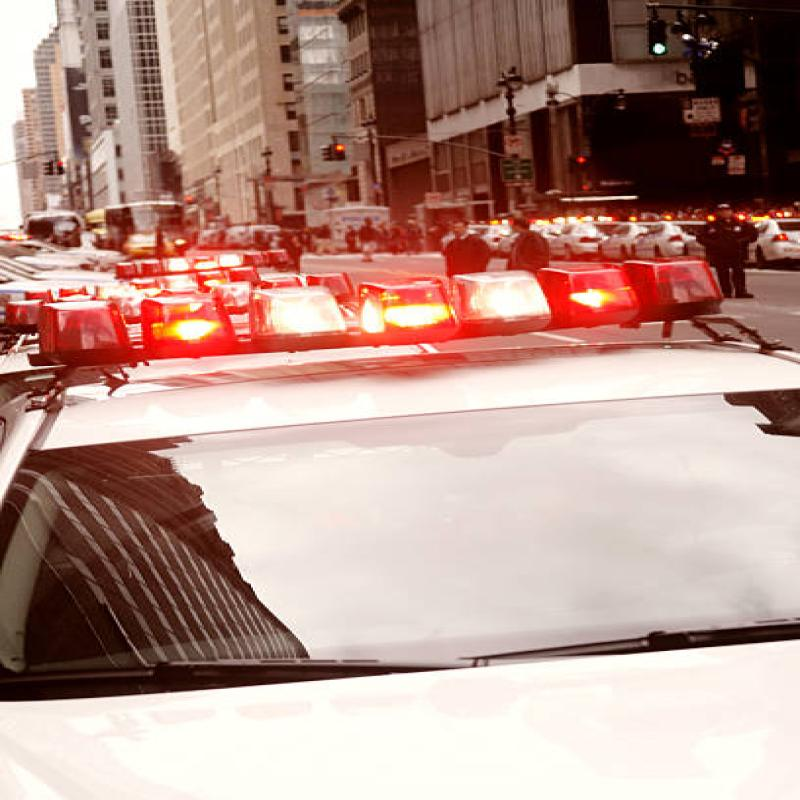AmbulanceSiren: (21, 254, 783, 366)
